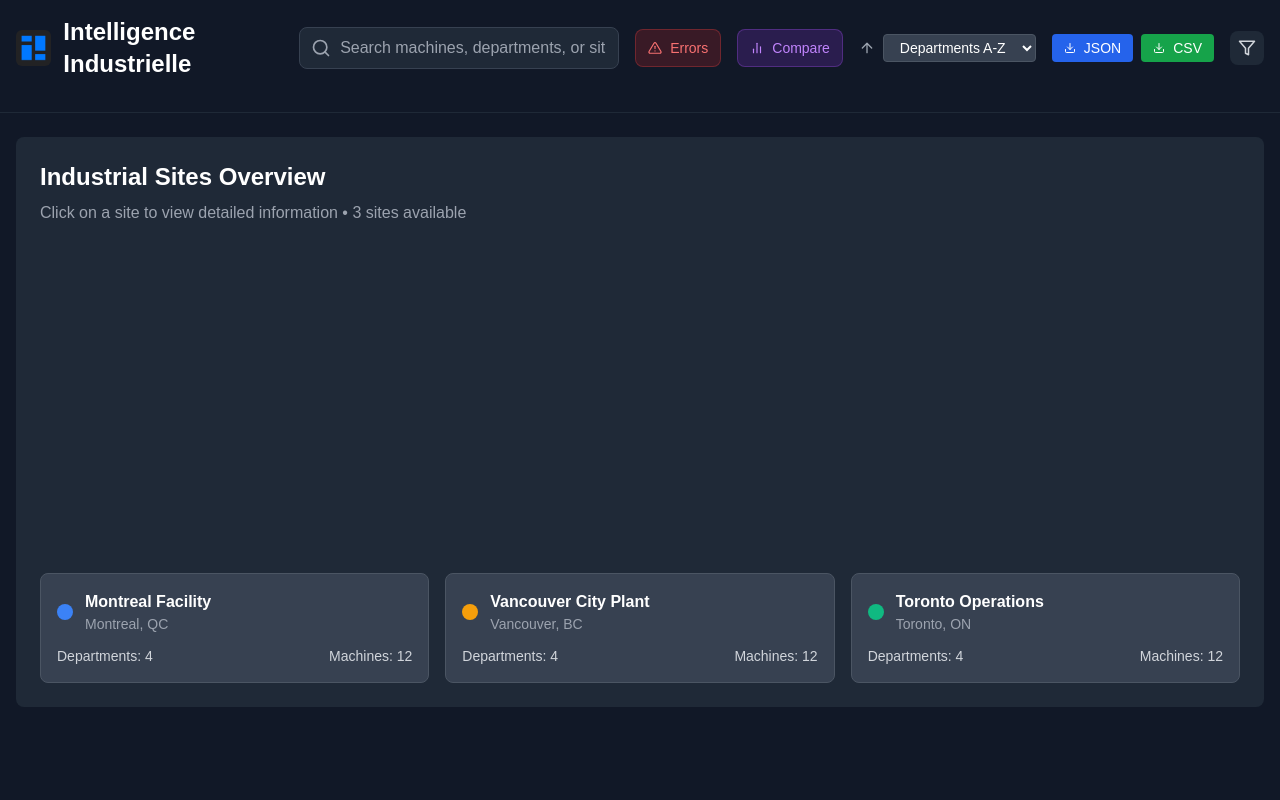
Test: App Component › should open comparison view when Compare button is clicked
Note: Find and click compare button
What coordinates should you click on to do the following:
click the button "Compare"
I would click on:
 (790, 48)
Its box is x1=737 y1=29 x2=843 y2=67.
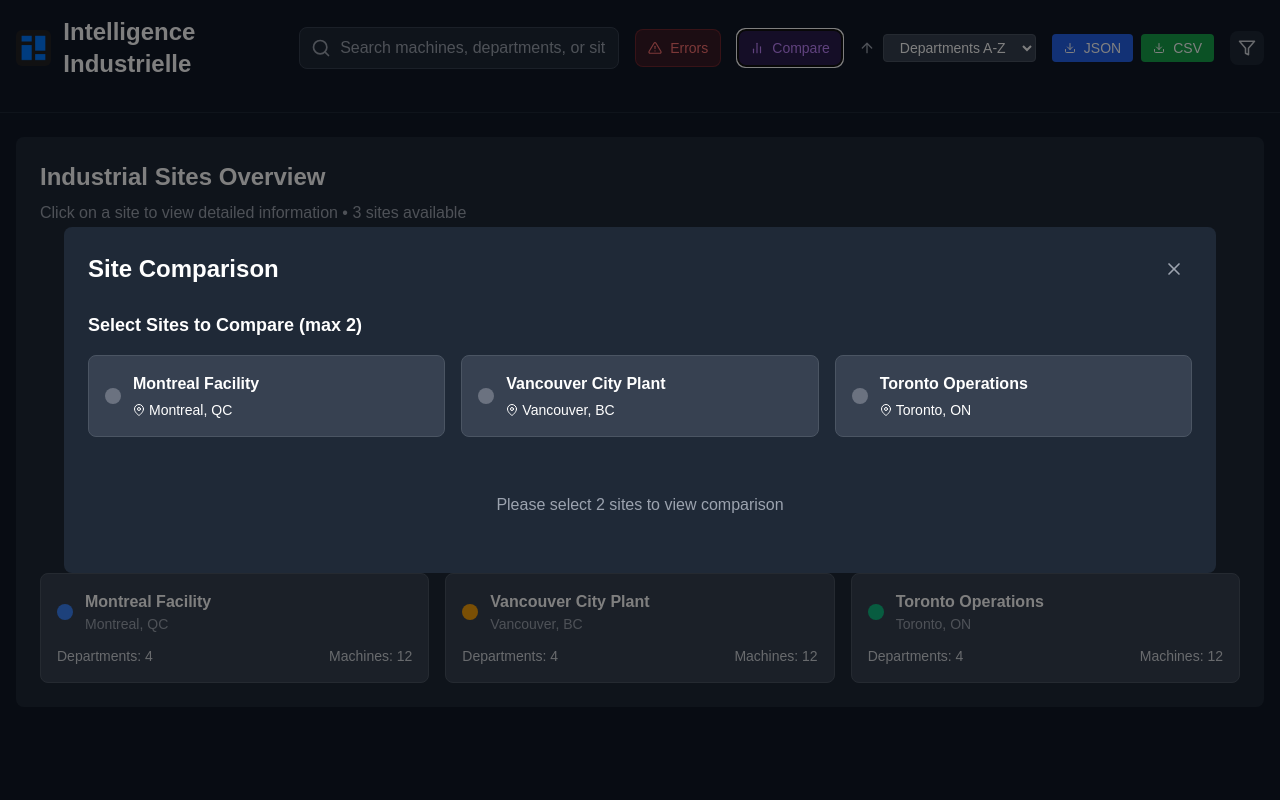
Expected: the heading "Site Comparison" is shown, x1=88 y1=253 x2=279 y2=285
